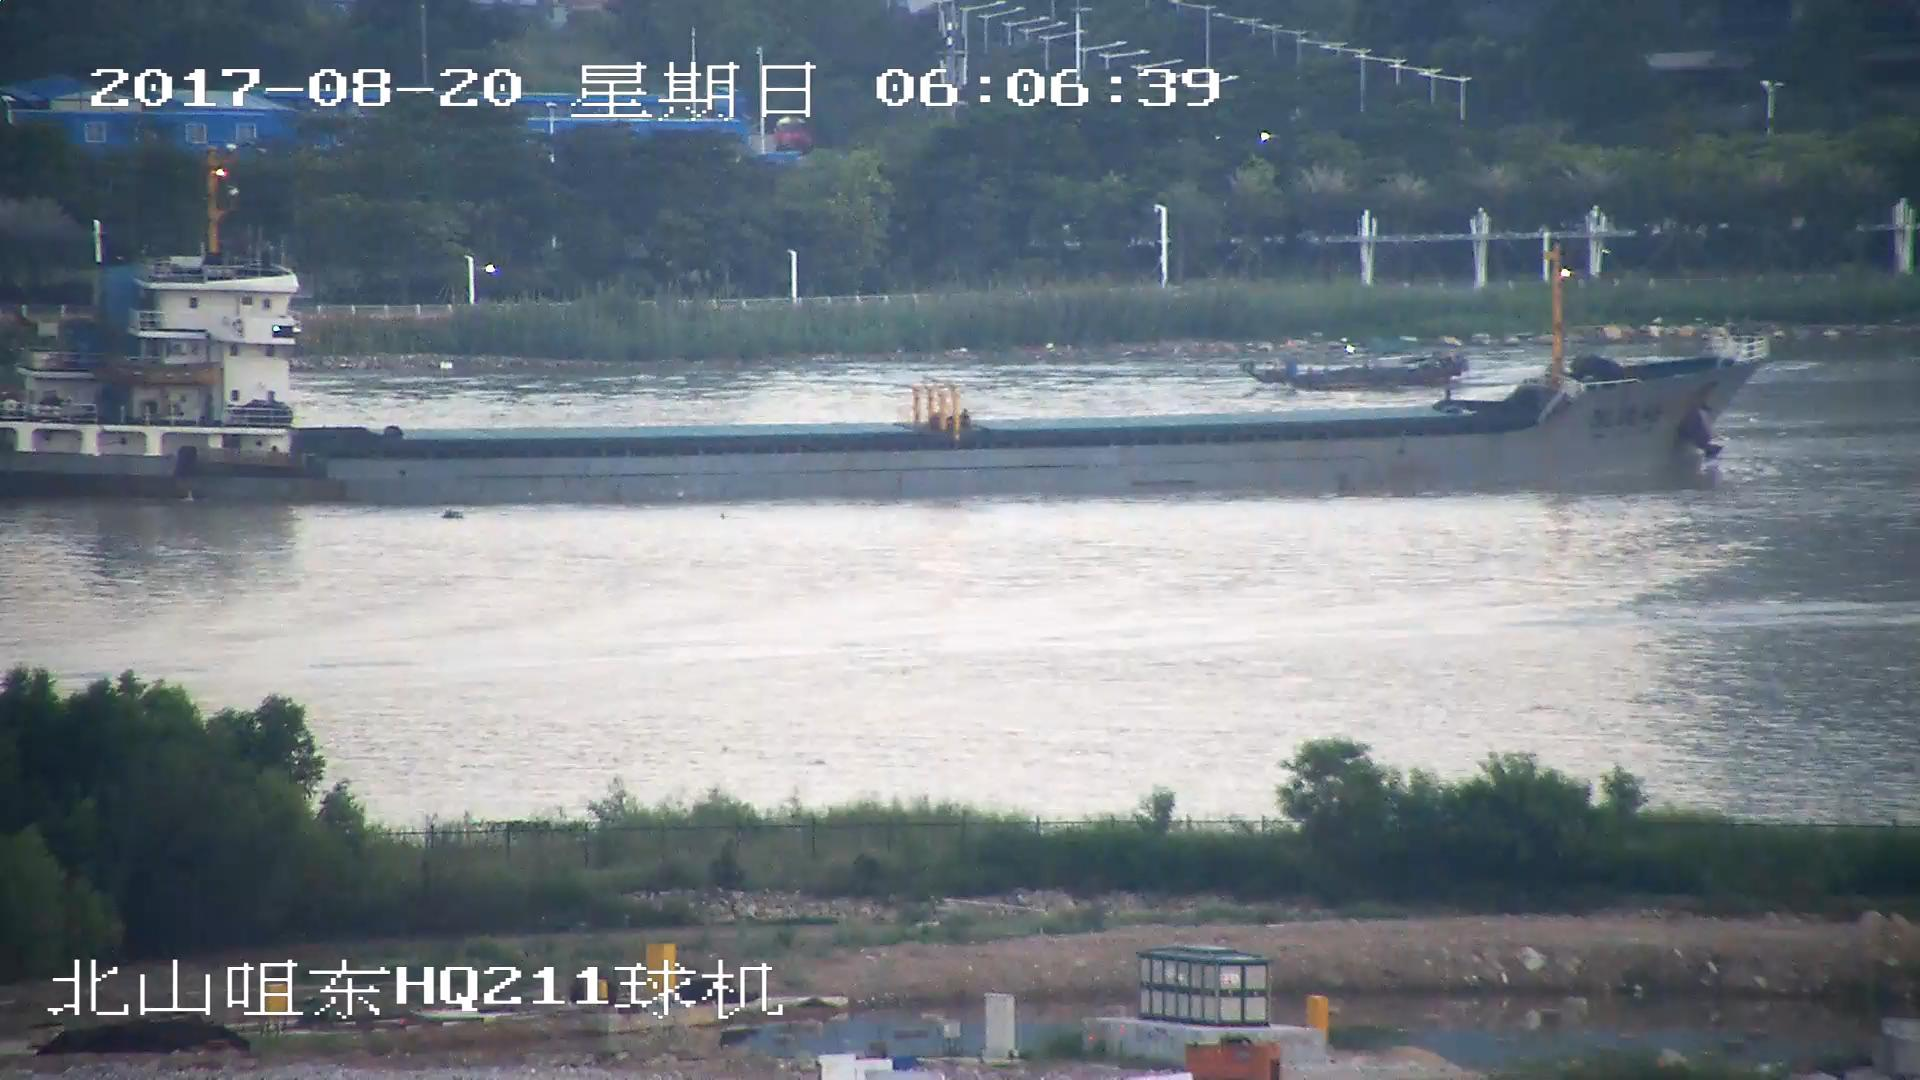Ship: (3, 149, 1778, 495), (1246, 357, 1470, 396)
